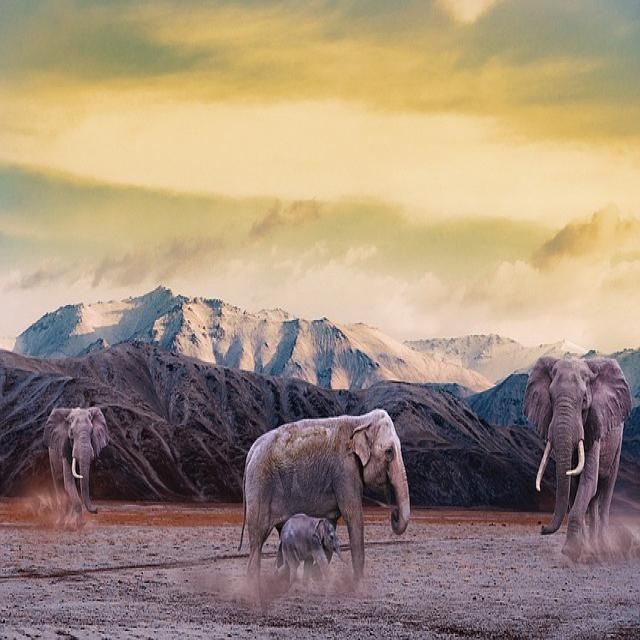FIL: (242, 405, 411, 581), (517, 341, 632, 556), (32, 404, 112, 510), (277, 514, 338, 569)
